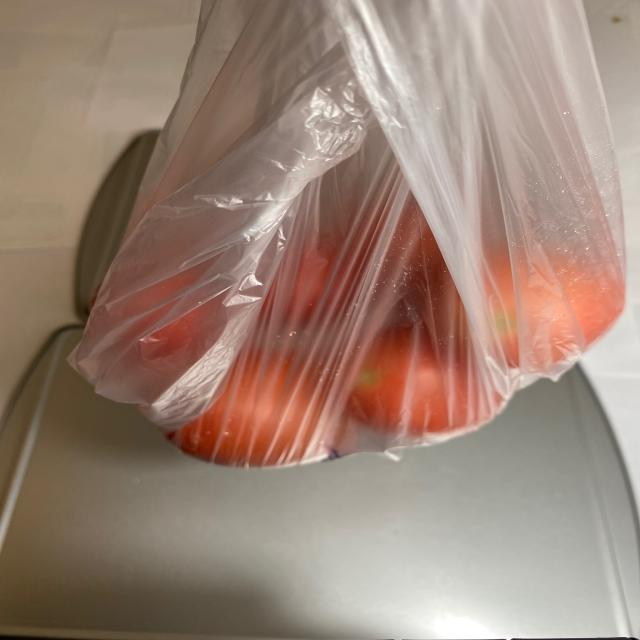tomato: (79, 199, 616, 470)
